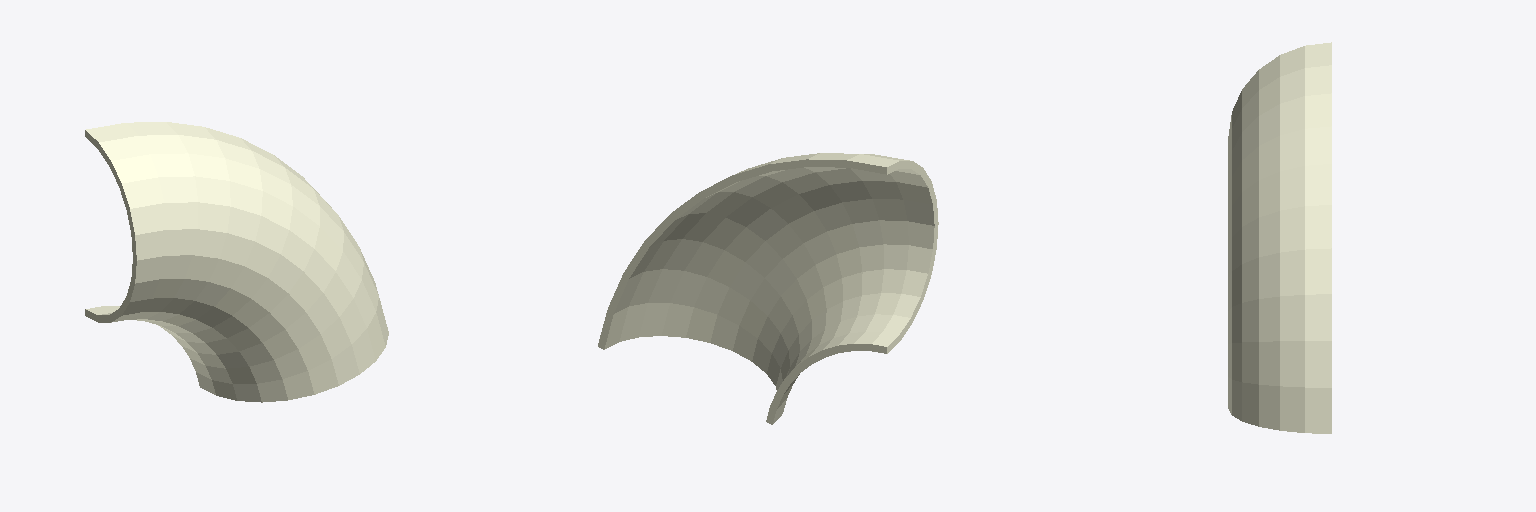
Rendered from section_027.obj.
The picture shows the model from 3 angles: view 1: azimuth 30°, elevation 25°; view 2: azimuth 150°, elevation 25°; view 3: azimuth 270°, elevation 25°; orthographic projection.
Bounding box in the file's own units: 42.22 × 39.78 × 13.